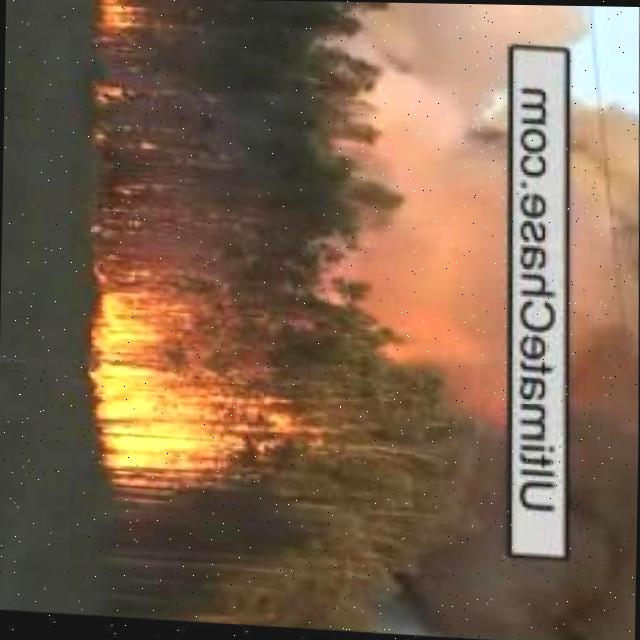fire: (91, 286, 245, 497), (100, 0, 145, 43), (88, 83, 134, 108)
